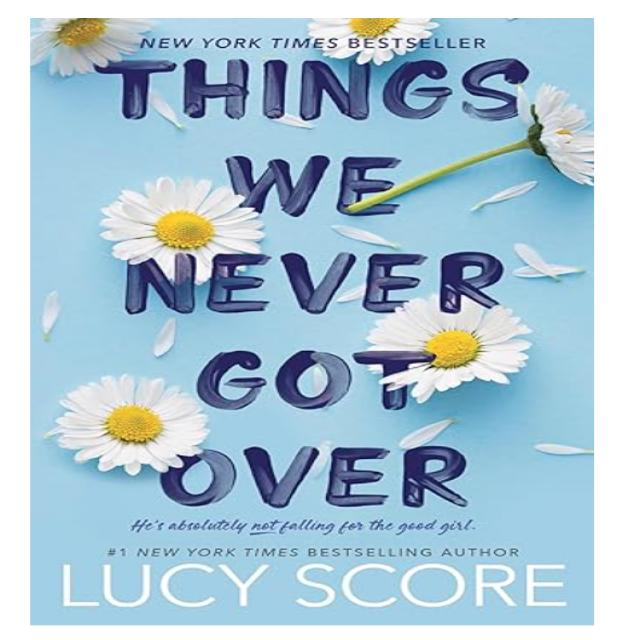titles-or-authors: (85, 54, 542, 513), (54, 559, 580, 614)
